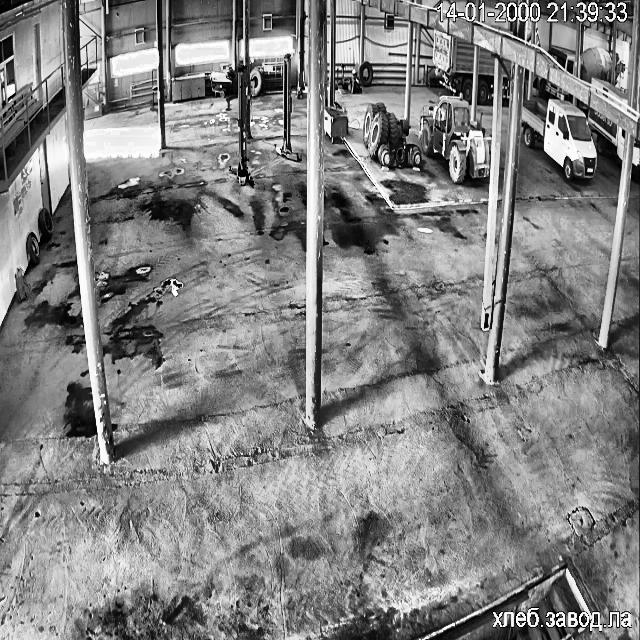class6: (420, 96, 489, 181), (362, 102, 420, 165)
class7: (521, 100, 596, 180), (432, 28, 473, 101), (588, 108, 624, 158), (580, 46, 620, 82), (477, 49, 493, 102), (537, 77, 572, 100), (592, 80, 628, 102), (548, 45, 574, 73), (632, 140, 640, 179), (500, 76, 508, 98), (505, 60, 510, 70)
tractor: (16, 268, 24, 300)
truck: (230, 66, 253, 186), (275, 52, 300, 161)
